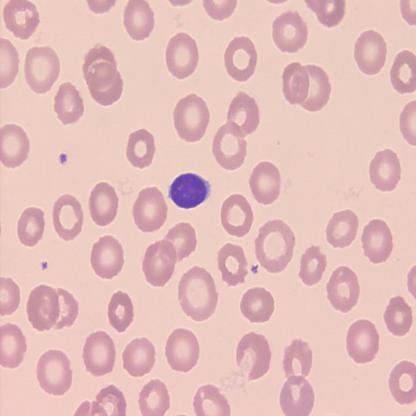Lymphocyte: (166, 170, 211, 211)
